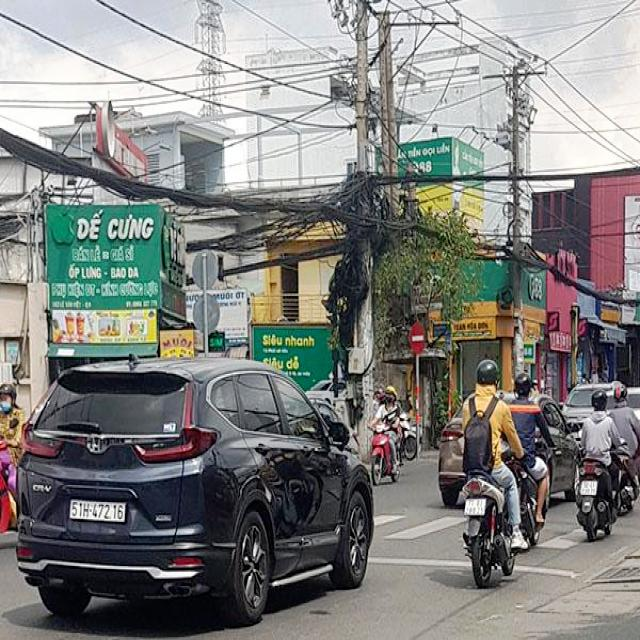license_plate: (68, 502, 127, 525)
